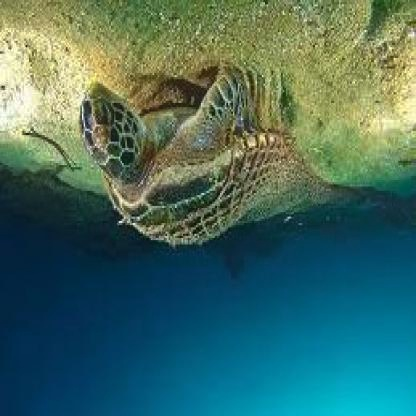net: (106, 135, 366, 247)
